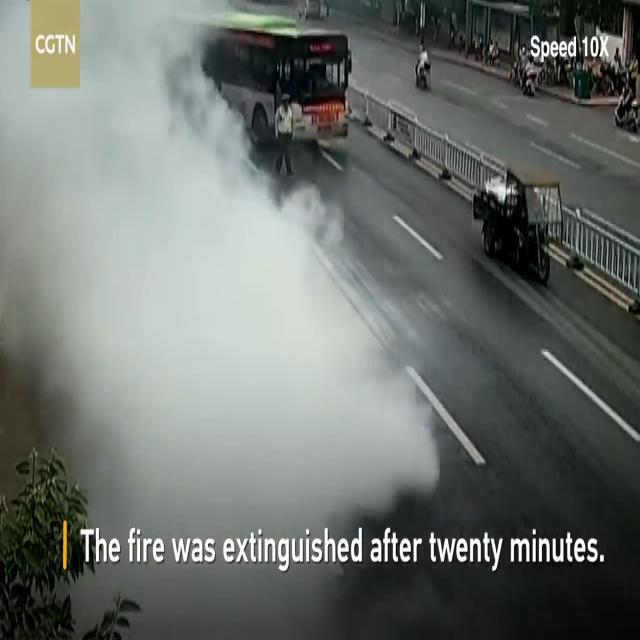Smoke: (0, 0, 438, 527)
